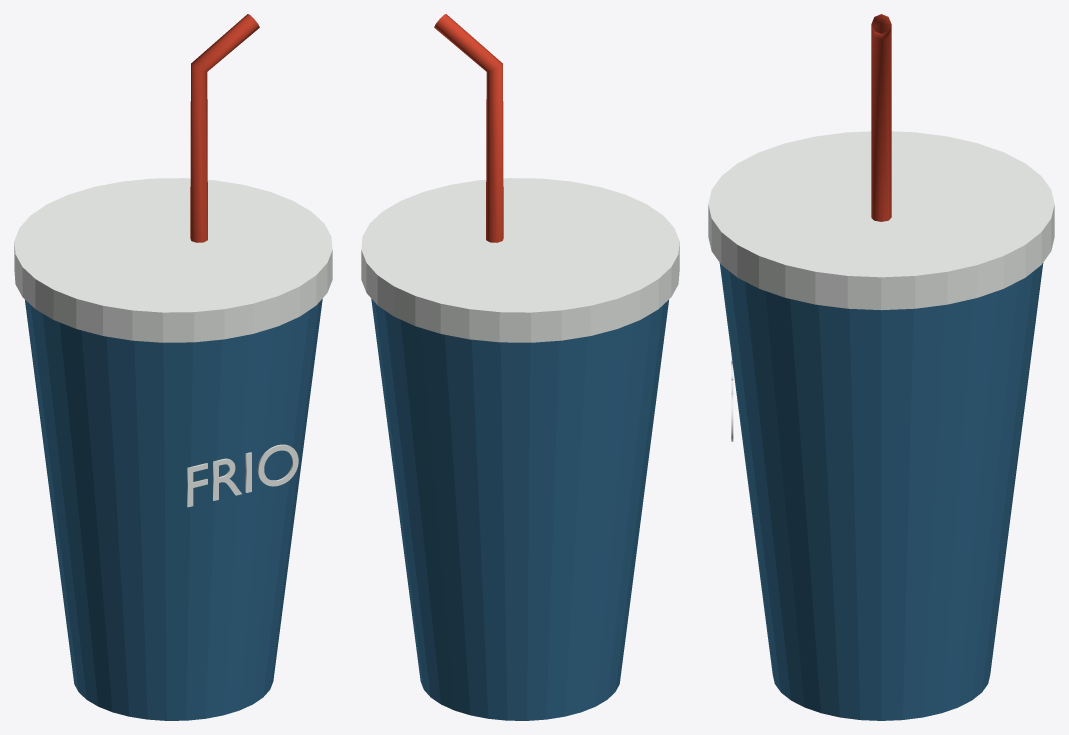
File: Vaso.fbx
The picture shows the model from 3 angles, left to right: view 1: azimuth 30°, elevation 25°; view 2: azimuth 150°, elevation 25°; view 3: azimuth 270°, elevation 25°; orthographic projection. The views are drawn at different scales.
Parts seen in each view (by area): view 1: Vaso, Tapa.003, Pajita, Texto_FRIO; view 2: Vaso, Tapa.003, Pajita; view 3: Vaso, Tapa.003, Pajita.
Boxes of the visible parts, bbox=[...] form: Vaso: bbox=[25, 299, 322, 720]; Tapa.003: bbox=[14, 178, 332, 342]; Pajita: bbox=[190, 14, 259, 242]; Texto_FRIO: bbox=[187, 444, 298, 507]; Vaso: bbox=[371, 299, 668, 720]; Tapa.003: bbox=[361, 178, 679, 342]; Pajita: bbox=[434, 14, 503, 242]; Vaso: bbox=[719, 263, 1043, 720]; Tapa.003: bbox=[708, 131, 1054, 310]; Pajita: bbox=[871, 14, 891, 221].
Bounding box in the file's own units: 8.6 × 19.22 × 8.6.
